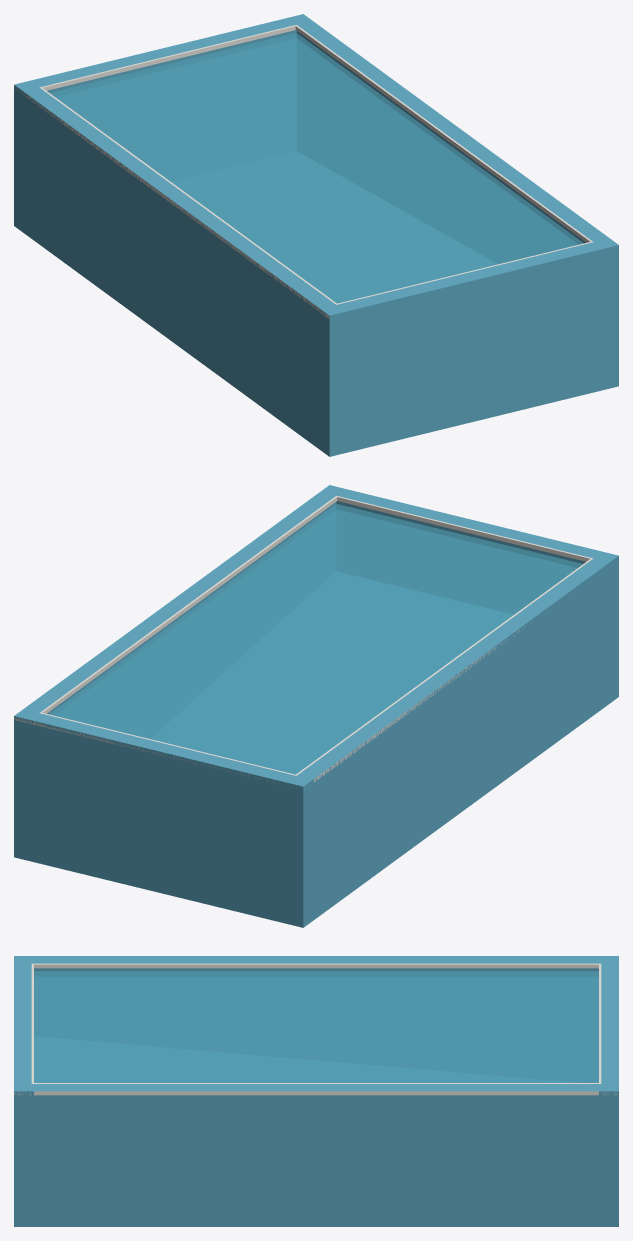
The model's file is pool.glb.
3 renders of one model, top to bottom at view 1: azimuth 30°, elevation 25°; view 2: azimuth 150°, elevation 25°; view 3: azimuth 270°, elevation 25°, orthographic. The views are drawn at different scales.
Visible parts, largest first — view 1: pool.water, pool.wall.west, pool.floor, pool.wall.south, pool.wall.east, pool.wall.north, pool.coping.west, pool.coping.east, pool.coping.north; view 2: pool.water, pool.wall.west, pool.wall.north, pool.wall.east, pool.floor, pool.wall.south, pool.coping.east, pool.coping.west, pool.coping.south, pool.coping.north; view 3: pool.wall.east, pool.water, pool.wall.west, pool.wall.south, pool.wall.north, pool.coping.west, pool.coping.east, pool.coping.south, pool.coping.north.
Part boxes in pixels (x1=…): pool.water: x1=50, y1=33, x2=583, y2=303; pool.wall.west: x1=23, y1=87, x2=335, y2=449; pool.floor: x1=14, y1=212, x2=618, y2=456; pool.wall.south: x1=320, y1=238, x2=618, y2=456; pool.wall.east: x1=296, y1=21, x2=609, y2=244; pool.wall.north: x1=14, y1=14, x2=312, y2=231; pool.coping.west: x1=24, y1=88, x2=336, y2=310; pool.coping.east: x1=295, y1=25, x2=591, y2=242; pool.coping.north: x1=14, y1=25, x2=297, y2=94; pool.water: x1=49, y1=504, x2=582, y2=774; pool.wall.west: x1=297, y1=558, x2=609, y2=920; pool.wall.north: x1=14, y1=709, x2=312, y2=927; pool.wall.east: x1=23, y1=492, x2=336, y2=715; pool.floor: x1=14, y1=630, x2=618, y2=927; pool.wall.south: x1=320, y1=485, x2=618, y2=703; pool.coping.east: x1=41, y1=496, x2=337, y2=713; pool.coping.west: x1=296, y1=559, x2=591, y2=782; pool.coping.south: x1=335, y1=496, x2=593, y2=561; pool.coping.north: x1=14, y1=712, x2=304, y2=788; pool.wall.east: x1=31, y1=1084, x2=601, y2=1226; pool.water: x1=34, y1=971, x2=598, y2=1082; pool.wall.west: x1=31, y1=956, x2=601, y2=976; pool.wall.south: x1=14, y1=956, x2=31, y2=1226; pool.wall.north: x1=601, y1=956, x2=618, y2=1226; pool.coping.west: x1=34, y1=963, x2=598, y2=968; pool.coping.east: x1=34, y1=1083, x2=598, y2=1095; pool.coping.south: x1=14, y1=963, x2=33, y2=1095; pool.coping.north: x1=599, y1=963, x2=618, y2=1095.
Bounding box in the file's own units: 4.5 × 2.1 × 8.5.
